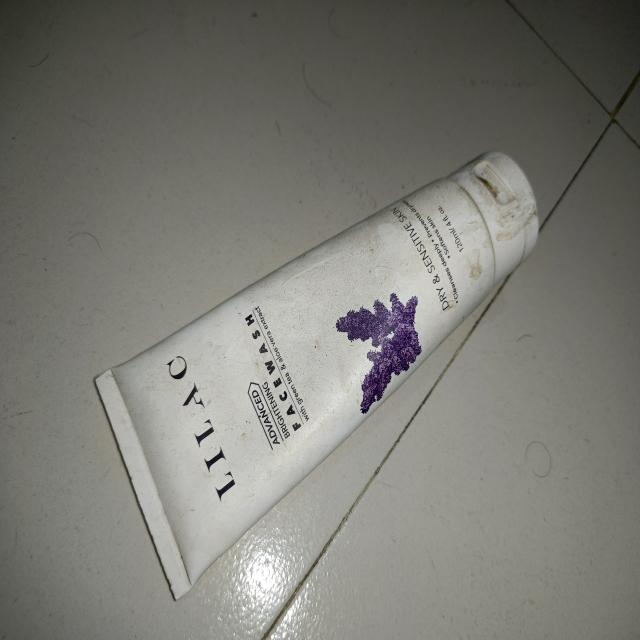Squeeze Tube: (91, 146, 555, 599)
